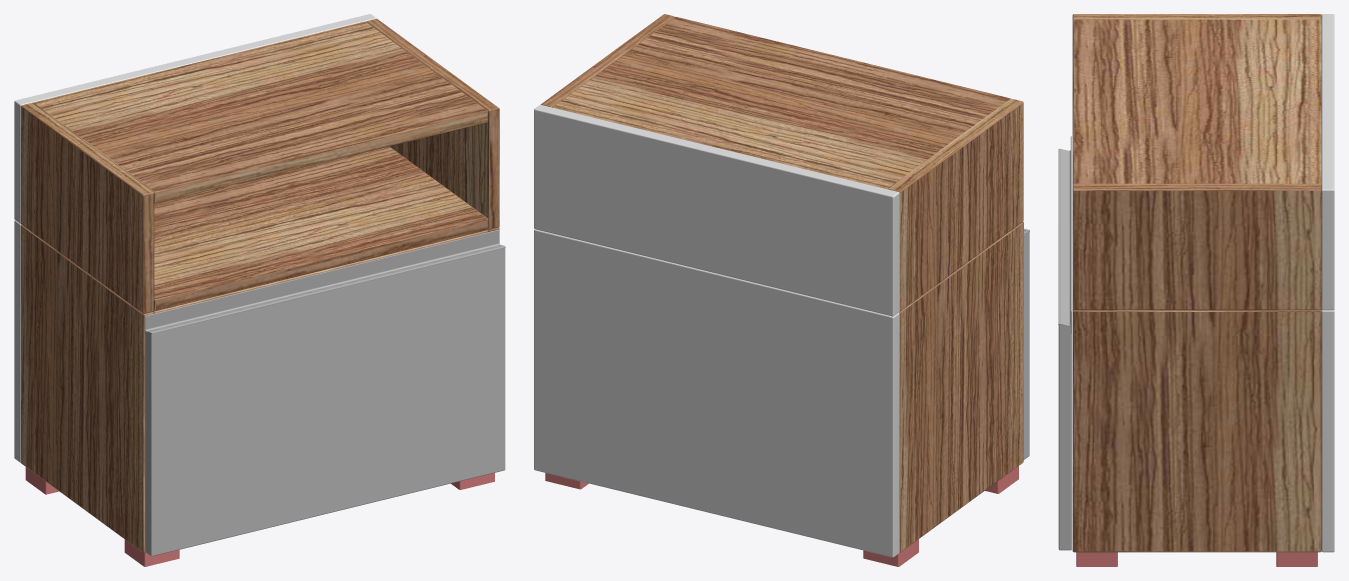
File: Trion_Shelf_Cabinet_1OH_40x60_door_FINALa.fbx
3 renders of one model, left to right at view 1: azimuth 30°, elevation 25°; view 2: azimuth 150°, elevation 25°; view 3: azimuth 270°, elevation 25°, orthographic.
Parts seen in each view (by area): view 1: drewno_mesh, drzwi_mesh, uchwyt_mesh, drewno2_mesh, plastik_mesh; view 2: drewno2_mesh, drewno_mesh, drzwi_mesh, plastik_mesh; view 3: drewno_mesh, drewno2_mesh, drzwi_mesh, uchwyt_mesh, plastik_mesh.
Part boxes in pixels (x1,y1,x2,y2): drewno_mesh: (21, 18, 499, 552); drzwi_mesh: (145, 248, 505, 556); uchwyt_mesh: (144, 229, 505, 338); drewno2_mesh: (14, 14, 376, 462); plastik_mesh: (25, 467, 494, 566); drewno2_mesh: (534, 104, 899, 557); drewno_mesh: (541, 14, 1023, 552); drzwi_mesh: (1023, 232, 1029, 459); plastik_mesh: (545, 466, 1018, 566); drewno_mesh: (1072, 14, 1321, 552); drewno2_mesh: (1321, 14, 1334, 552); drzwi_mesh: (1058, 325, 1071, 550); uchwyt_mesh: (1058, 136, 1071, 333); plastik_mesh: (1076, 552, 1317, 566).
Bounding box in the file's own units: 152 × 153 × 101.
